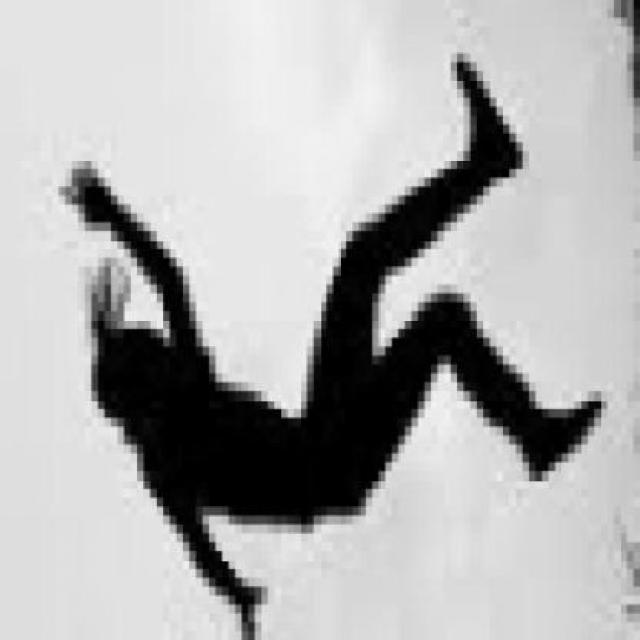fall: (48, 54, 608, 640)
